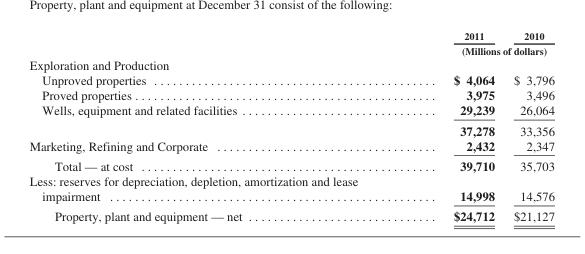table: (28, 29, 553, 223)
table column: (28, 29, 405, 223), (405, 29, 503, 223), (503, 29, 553, 223)
table column header: (28, 29, 553, 56)
table projected row header: (28, 56, 553, 72)
table row: (28, 173, 553, 205), (28, 119, 553, 137), (28, 137, 553, 155), (28, 155, 553, 173), (28, 205, 553, 223), (28, 102, 553, 119), (28, 56, 553, 72), (28, 72, 553, 87), (28, 87, 553, 102), (28, 42, 553, 56), (28, 29, 553, 42)
table spanning cell: (405, 42, 553, 56)
